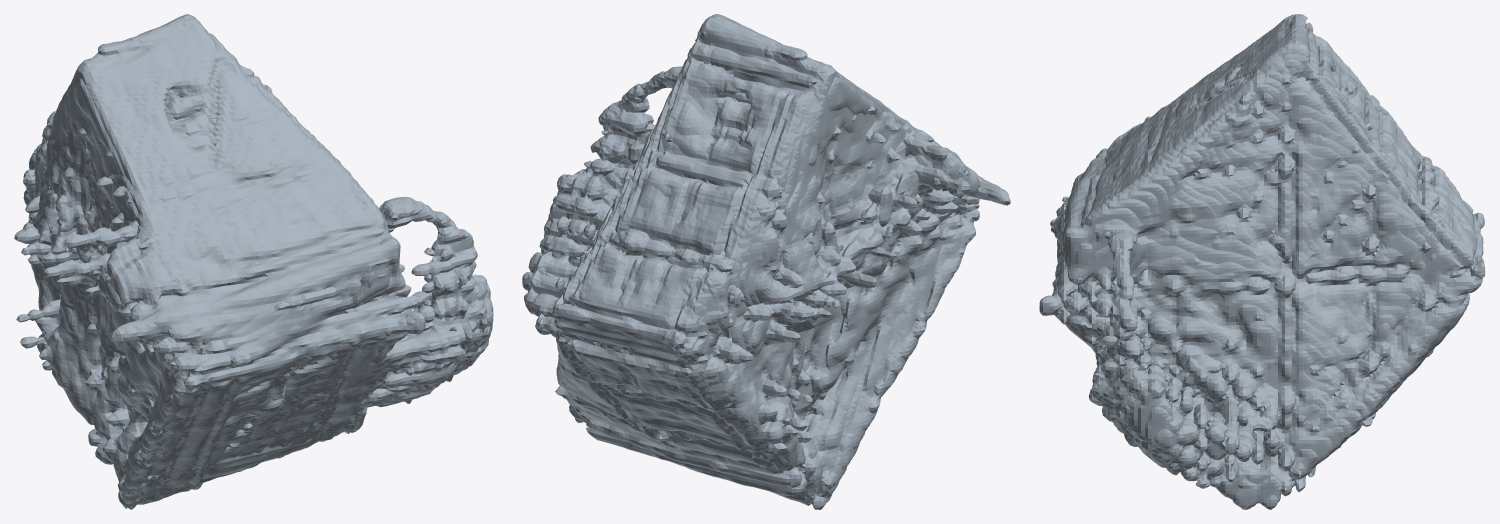
The model's file is raw.glb.
3 views of the same model, side by side, from view 1: azimuth 30°, elevation 25°; view 2: azimuth 150°, elevation 25°; view 3: azimuth 270°, elevation 25° (orthographic). The views are drawn at different scales.
Parts seen in each view (by area): view 1: world; view 2: world; view 3: world.
Boxes of the visible parts, x1,y1,x2,y2 form: world: (14, 14, 493, 509); world: (522, 14, 1010, 509); world: (1039, 14, 1485, 509).
Bounding box in the file's own units: 0.45 × 0.4867 × 0.4545.
